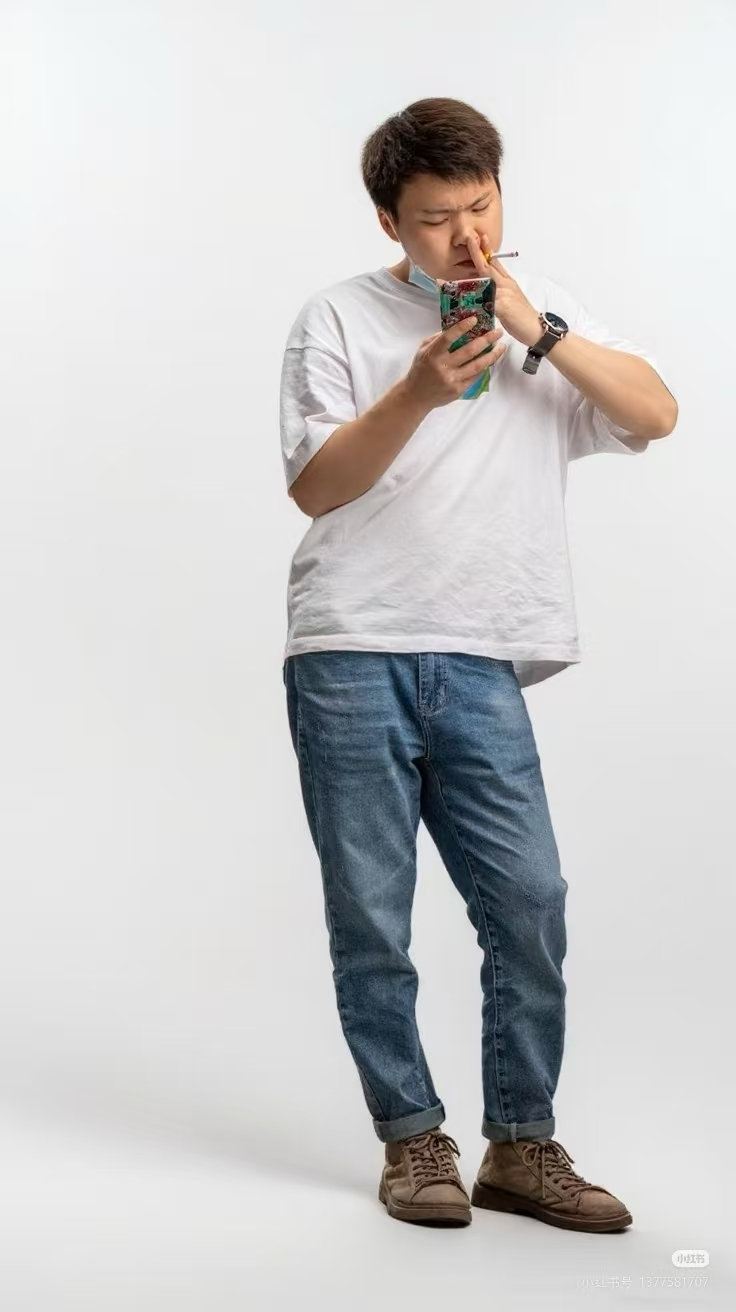up: (249, 76, 706, 1252)
